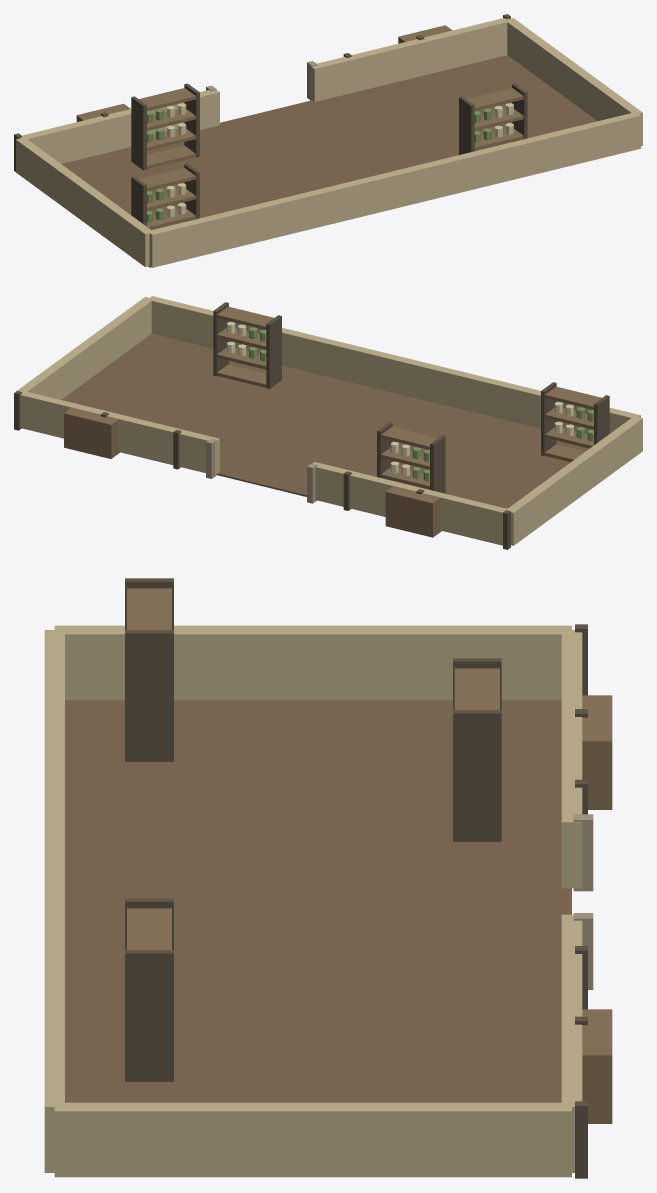
File: WalkTown_Shop_Structure.fbx
3 views of the same model, one above another, from view 1: azimuth 30°, elevation 25°; view 2: azimuth 150°, elevation 25°; view 3: azimuth 270°, elevation 25° (orthographic). The views are drawn at different scales.
Visible parts, largest first — view 1: WalkTown_Shop_Structure; view 2: WalkTown_Shop_Structure; view 3: WalkTown_Shop_Structure.
Boxes of the visible parts, x1,y1,x2,y2 form: WalkTown_Shop_Structure: (14,14,642,267); WalkTown_Shop_Structure: (14,296,642,549); WalkTown_Shop_Structure: (44,578,612,1178).
Bounding box in the file's own units: 15.78 × 2 × 7.8.
